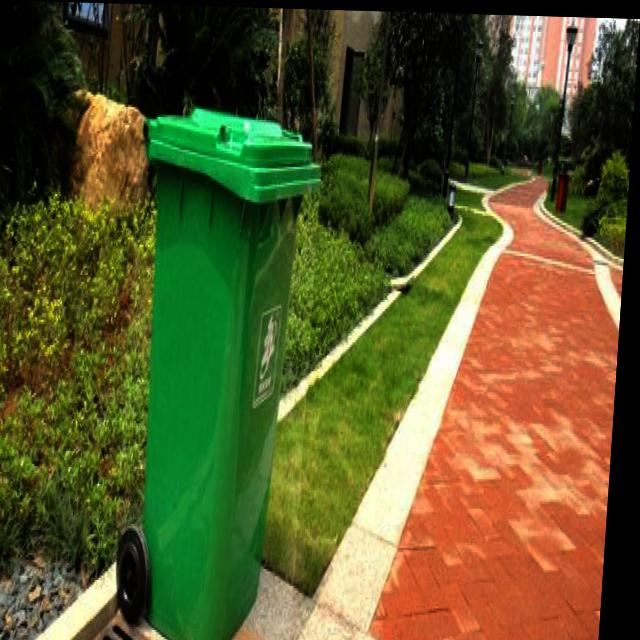garbage_bin: (117, 102, 327, 640)
